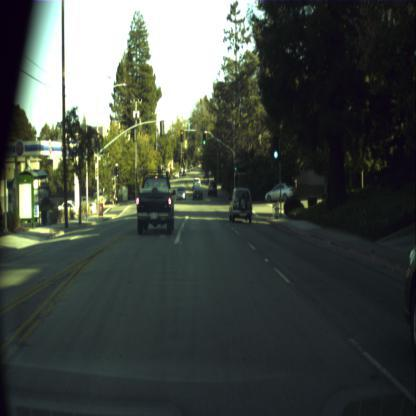Green: (273, 138, 278, 158), (202, 133, 206, 145), (116, 166, 118, 176), (235, 162, 236, 171)
Red: (180, 130, 183, 142), (114, 165, 116, 174)
